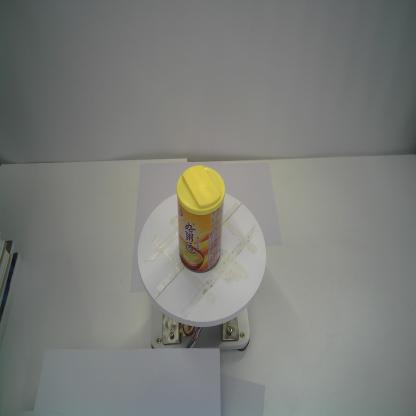Canned Food: (175, 163, 227, 274)
